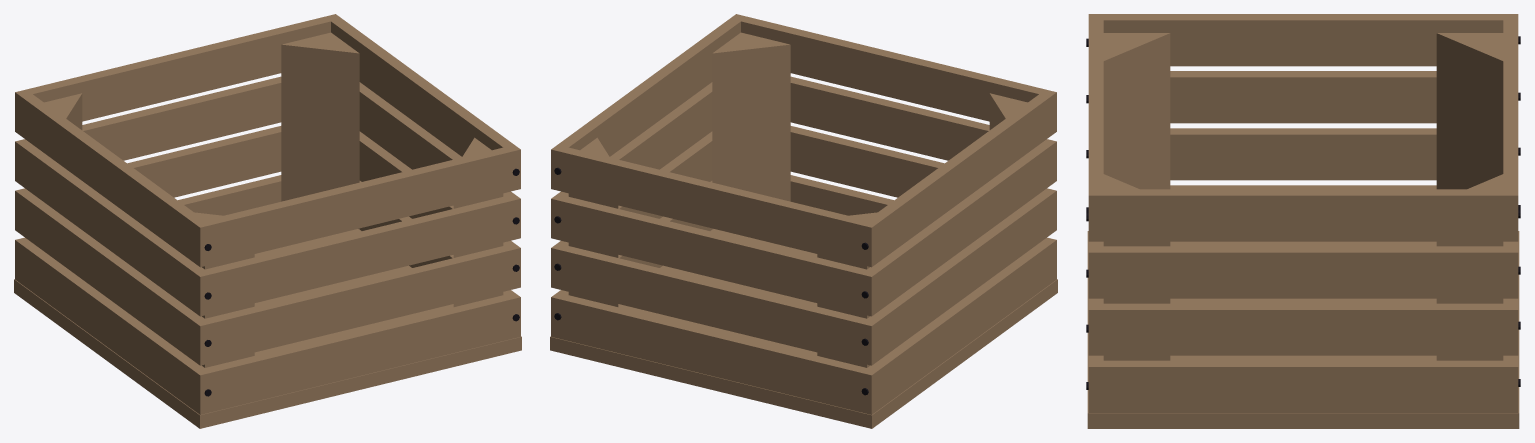
The model's file is Petite_Cagette.fbx.
3 views of the same model, side by side, from view 1: azimuth 30°, elevation 25°; view 2: azimuth 150°, elevation 25°; view 3: azimuth 270°, elevation 25° (orthographic). The views are drawn at different scales.
Parts seen in each view (by area): view 1: Soutien; view 2: Soutien; view 3: Soutien.
Part boxes in pixels (bbox=[...]): Soutien: bbox=[14, 14, 521, 428]; Soutien: bbox=[550, 14, 1057, 428]; Soutien: bbox=[1086, 14, 1520, 428].
Size of the model in its own units: 76.66 by 45.7 by 77.17.
